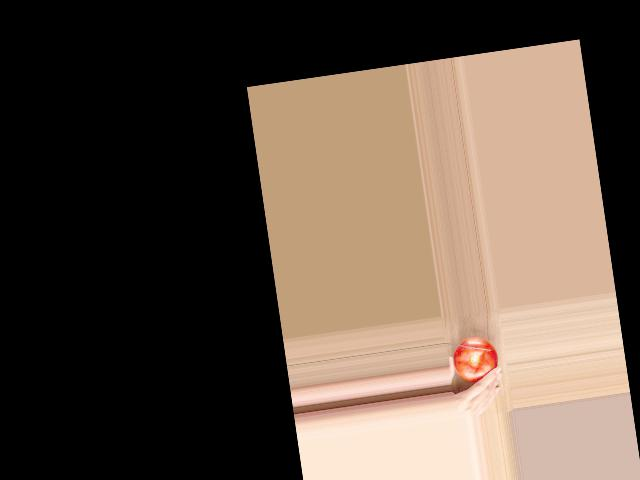tomato: (450, 334, 500, 385)
